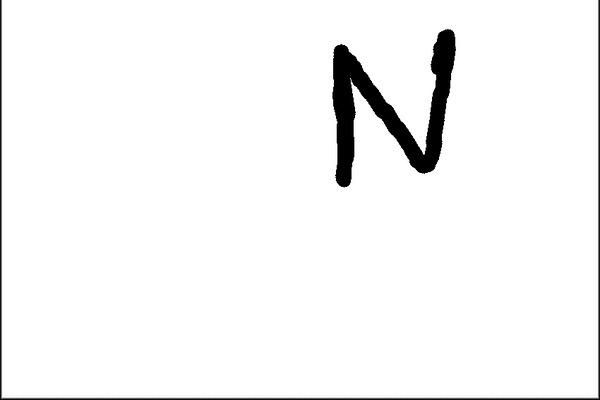N: (323, 26, 460, 191)
